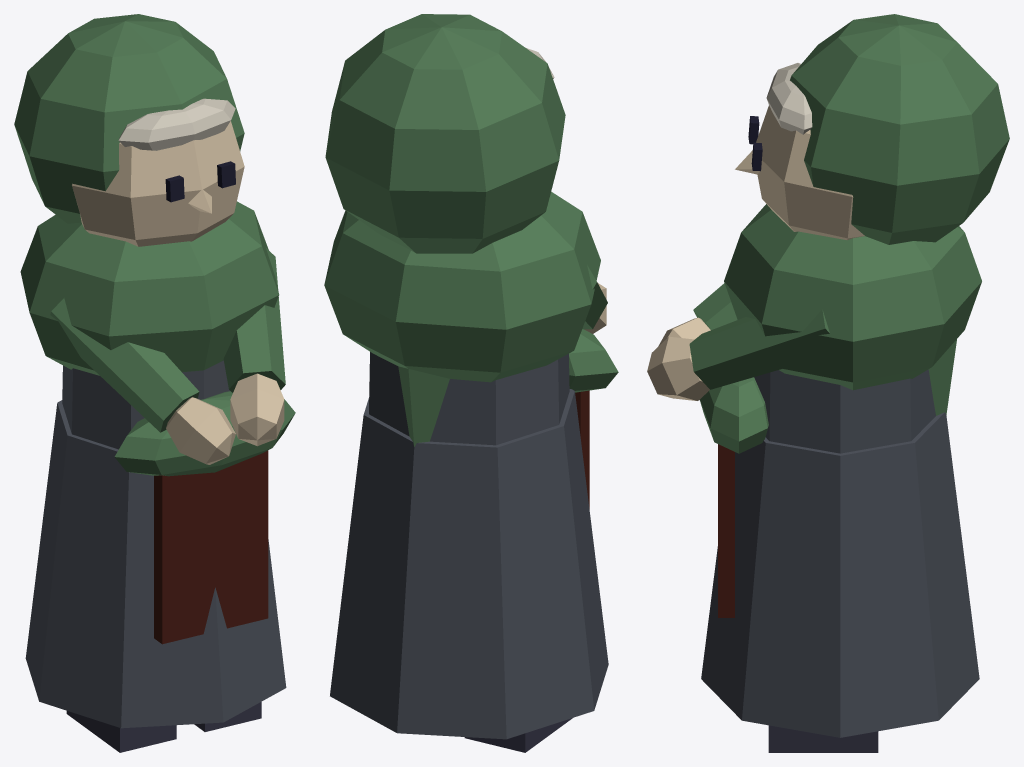
File: yard_shawl.glb
The picture shows the model from 3 angles, left to right: view 1: azimuth 30°, elevation 25°; view 2: azimuth 150°, elevation 25°; view 3: azimuth 270°, elevation 25°; orthographic projection. The views are drawn at different scales.
Parts seen in each view (by area): view 1: Torso, Head, ArmR, ArmL, LegR, LegL; view 2: Torso, Head, LegR, ArmR; view 3: Torso, Head, ArmL, LegL, ArmR.
Boxes of the visible parts, <box> form: Torso: <box>20,201,295,728</box>; Head: <box>14,14,244,246</box>; ArmR: <box>50,298,235,464</box>; ArmL: <box>223,248,285,446</box>; LegR: <box>66,711,176,752</box>; LegL: <box>194,702,261,731</box>; Torso: <box>324,191,618,739</box>; Head: <box>325,14,565,253</box>; LegR: <box>464,718,572,752</box>; ArmR: <box>582,265,607,333</box>; Torso: <box>700,204,981,737</box>; Head: <box>735,14,1009,244</box>; ArmL: <box>647,309,829,400</box>; LegL: <box>768,725,878,752</box>; ArmR: <box>658,283,737,346</box>.
Bounding box in the file's own units: 0.646 × 1.71 × 0.8165.
